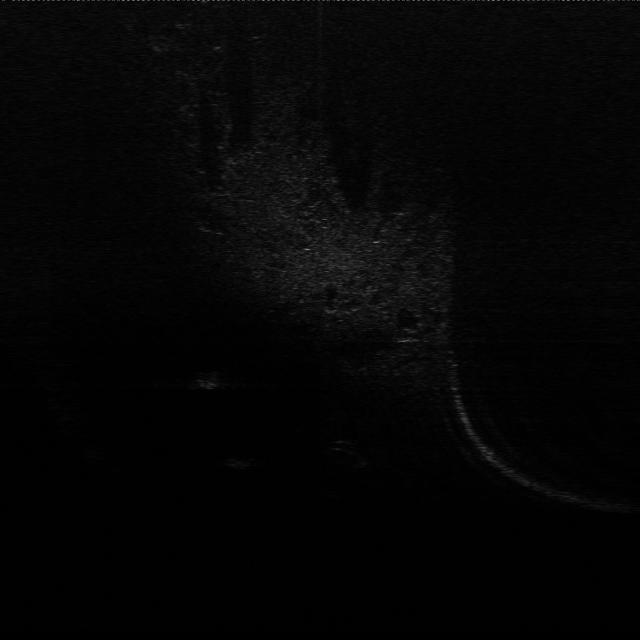cube: (213, 452, 259, 478)
square cage: (187, 367, 229, 394)
tyre: (326, 434, 374, 474)
